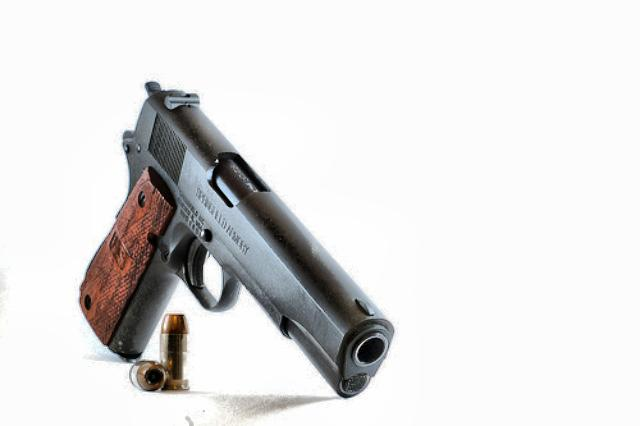pistol: (77, 81, 391, 397)
